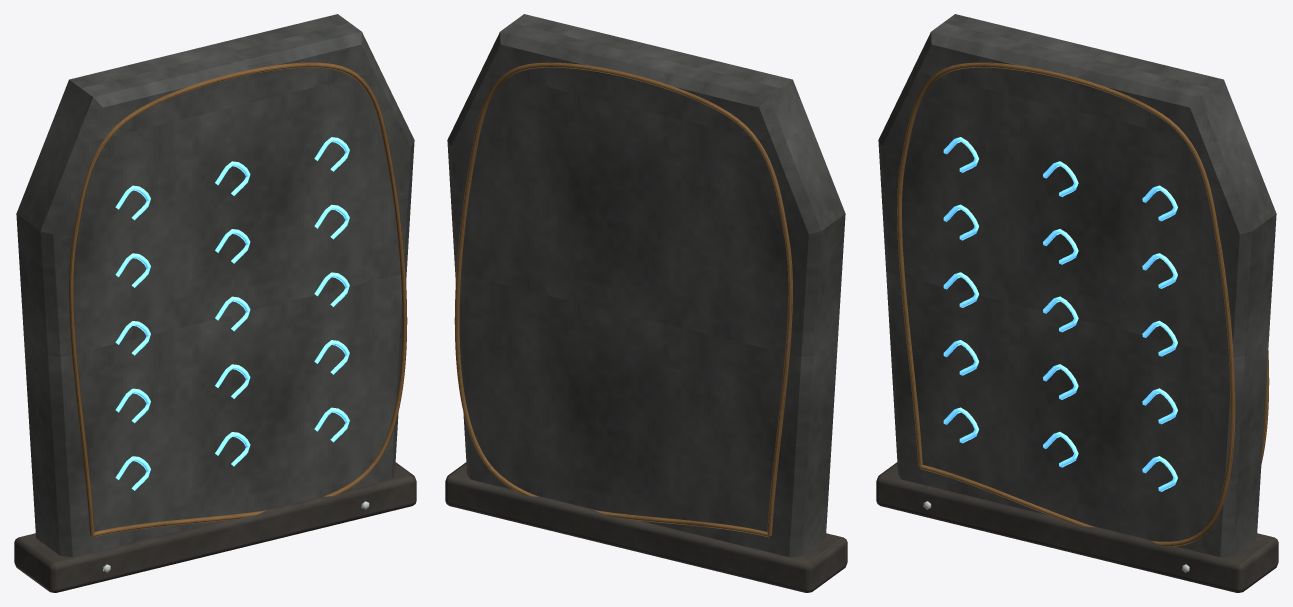
The model's file is rune-tablet.lod1.glb.
3 views of the same model, side by side, from view 1: azimuth 30°, elevation 25°; view 2: azimuth 150°, elevation 25°; view 3: azimuth 330°, elevation 25° (orthographic).
Parts seen in each view (by area): view 1: stone / dressed slate, iron / hammer-scaled wrought iron, bronze / cast bronze with patina, energy / emissive field channel; view 2: stone / dressed slate, iron / hammer-scaled wrought iron, bronze / cast bronze with patina; view 3: stone / dressed slate, iron / hammer-scaled wrought iron, bronze / cast bronze with patina, energy / emissive field channel.
Boxes of the visible parts, x1,y1,x2,y2 form: stone / dressed slate: (16, 14, 414, 557); iron / hammer-scaled wrought iron: (14, 462, 416, 592); bronze / cast bronze with patina: (69, 62, 407, 537); energy / emissive field channel: (115, 137, 349, 490); stone / dressed slate: (447, 14, 845, 557); iron / hammer-scaled wrought iron: (445, 462, 847, 592); bronze / cast bronze with patina: (454, 62, 792, 537); stone / dressed slate: (878, 14, 1276, 557); iron / hammer-scaled wrought iron: (876, 462, 1278, 592); bronze / cast bronze with patina: (897, 62, 1269, 546); energy / emissive field channel: (943, 137, 1177, 491).
Bounding box in the file's own units: 0.3762 × 0.463 × 0.0735.
Materials: 5 (4 with a texture image).
